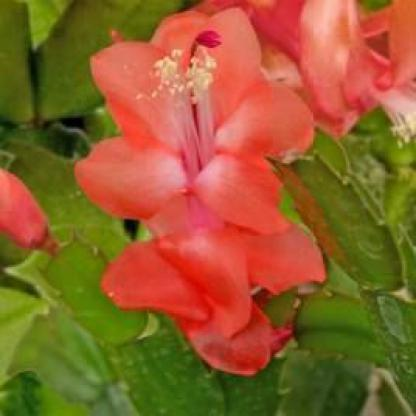Aglonema: (44, 87, 413, 338)
